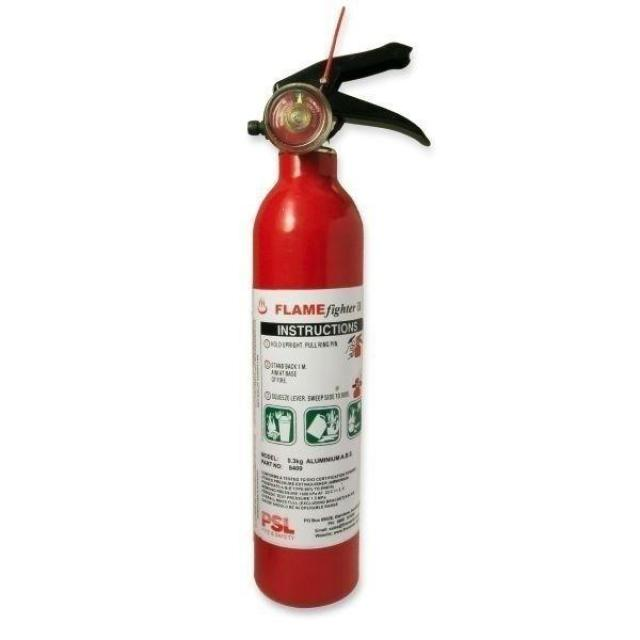fire_extinguisher: (242, 3, 431, 611)
